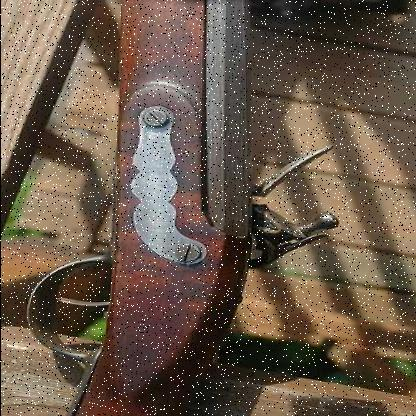rifle: (1, 0, 330, 415)
